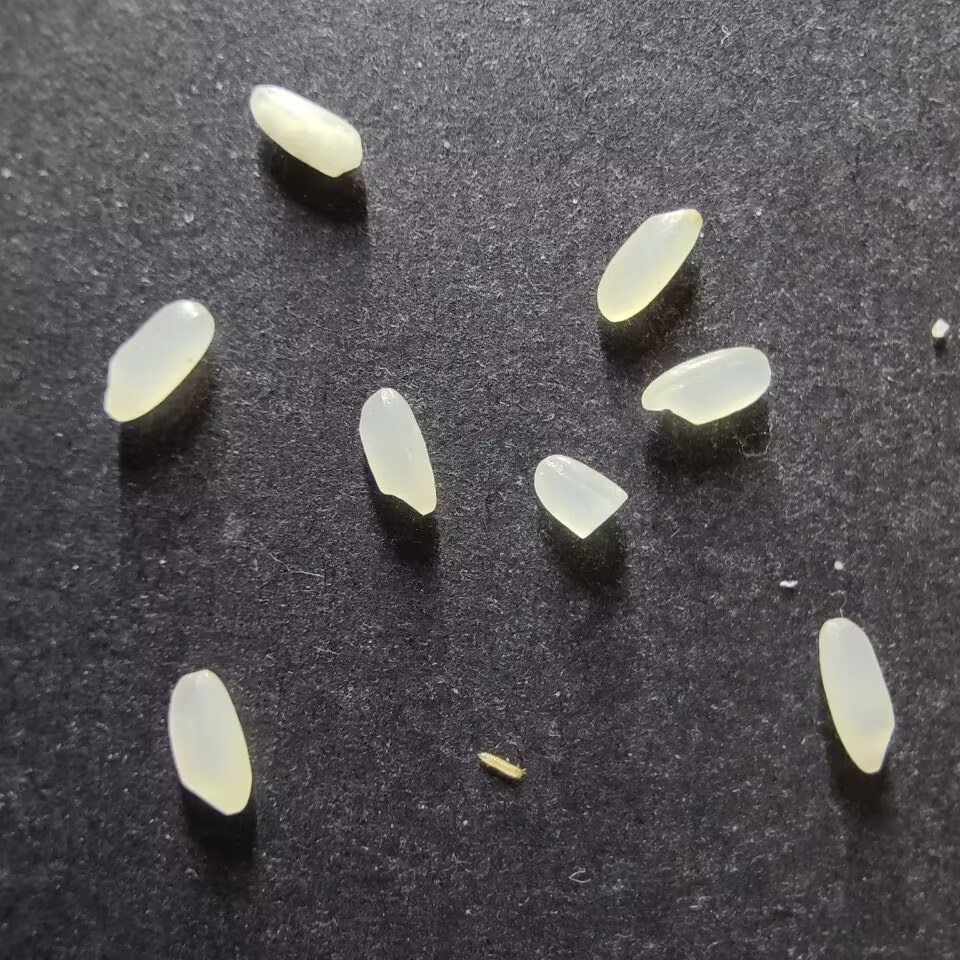broken: (531, 452, 630, 539)
others: (474, 749, 527, 780)
rice: (101, 298, 216, 423), (594, 204, 703, 323), (165, 667, 252, 816), (816, 616, 897, 775), (248, 83, 365, 178), (639, 343, 772, 426), (355, 386, 438, 517)
